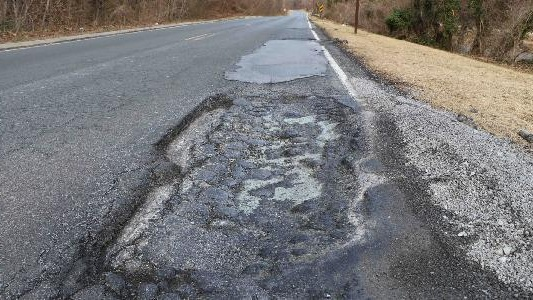pothole: (80, 87, 369, 292)
